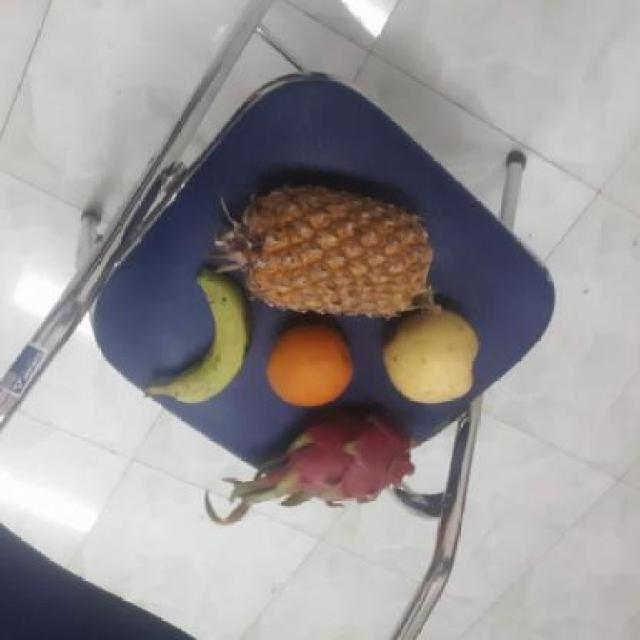banana: (163, 268, 252, 409)
dragon fruit: (266, 408, 414, 503)
oren: (260, 318, 358, 407)
pear: (379, 307, 483, 405)
pineapple: (230, 183, 424, 315)
